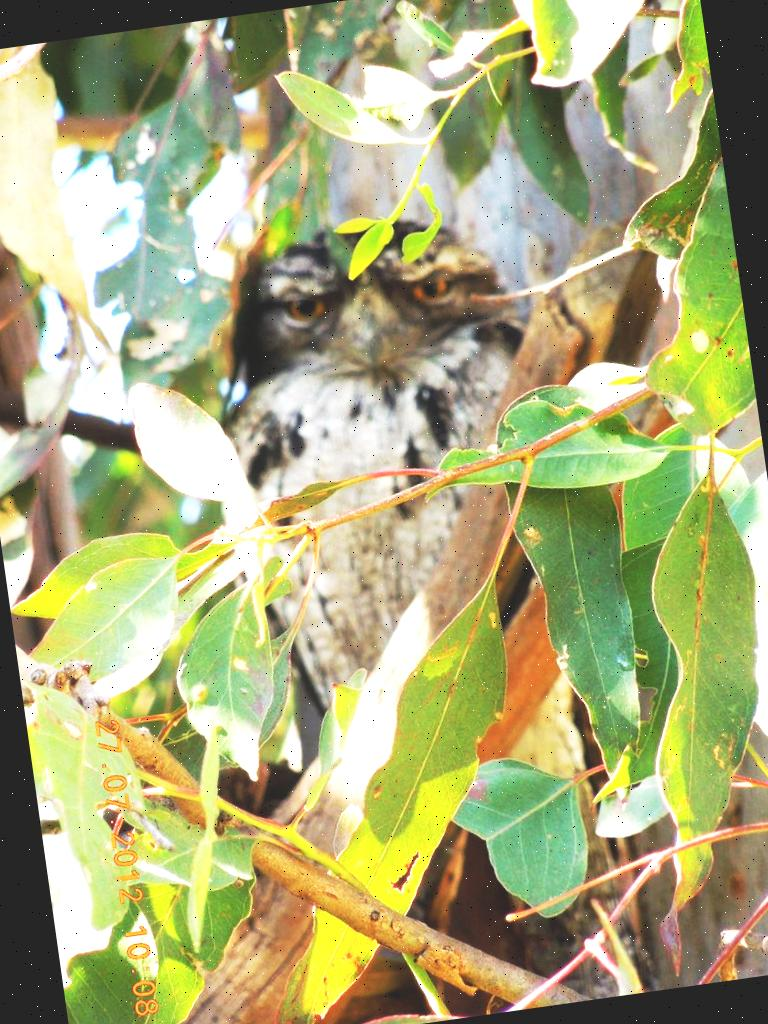Owl: (183, 203, 576, 721)
